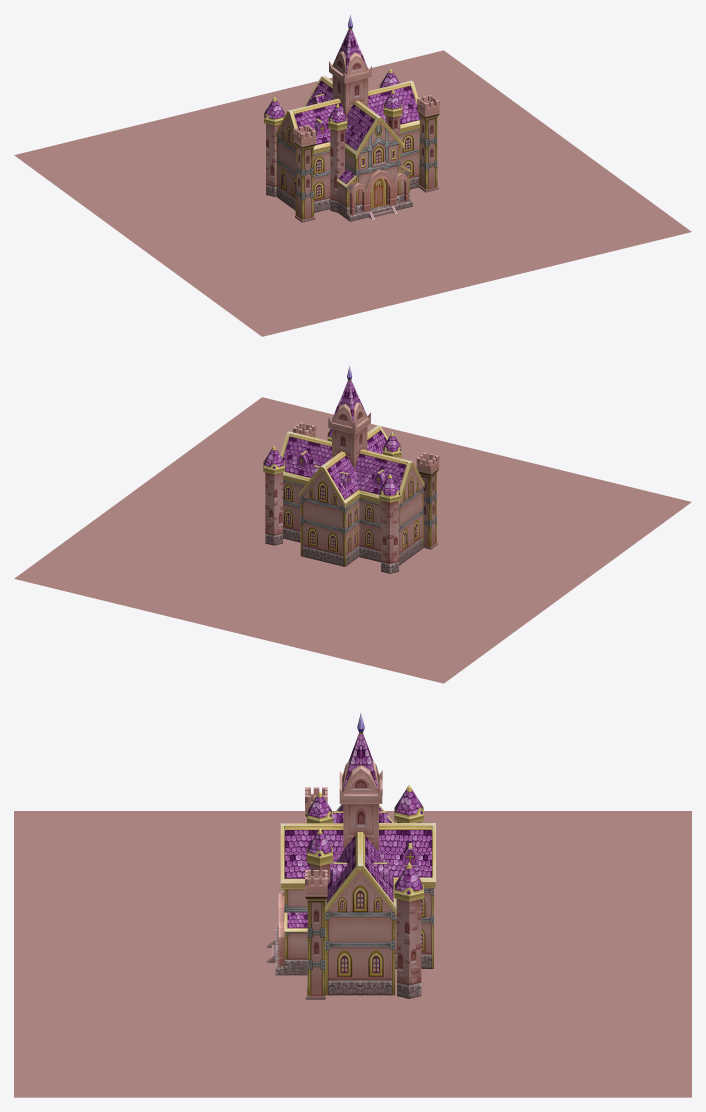
File: house1.obj
3 views of the same model, one above another, from view 1: azimuth 30°, elevation 25°; view 2: azimuth 150°, elevation 25°; view 3: azimuth 270°, elevation 25° (orthographic). The views are drawn at different scales.
Visible parts, largest first — view 1: house_02_001_geom_Untitled; view 2: house_02_001_geom_Untitled; view 3: house_02_001_geom_Untitled.
Boxes of the visible parts, x1=… form: house_02_001_geom_Untitled: x1=14, y1=14, x2=691, y2=336; house_02_001_geom_Untitled: x1=14, y1=366, x2=691, y2=683; house_02_001_geom_Untitled: x1=14, y1=713, x2=691, y2=1097.
Size of the model in its own units: 12.86 by 5.07 by 12.86.
1 material, 1 textured.
